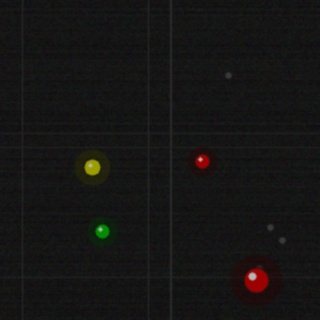green_normal: (93, 222, 111, 240)
red_fault: (242, 266, 270, 294), (193, 152, 211, 170)
yellow_warning: (82, 157, 102, 177)
